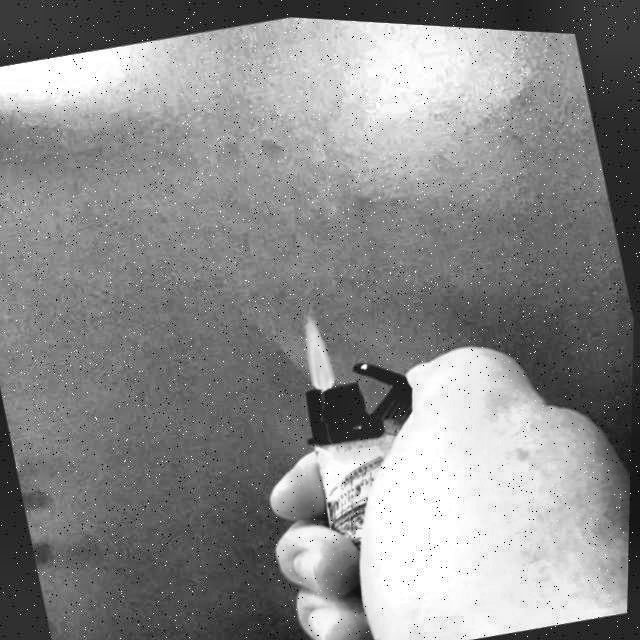Fire: (292, 305, 341, 388)
